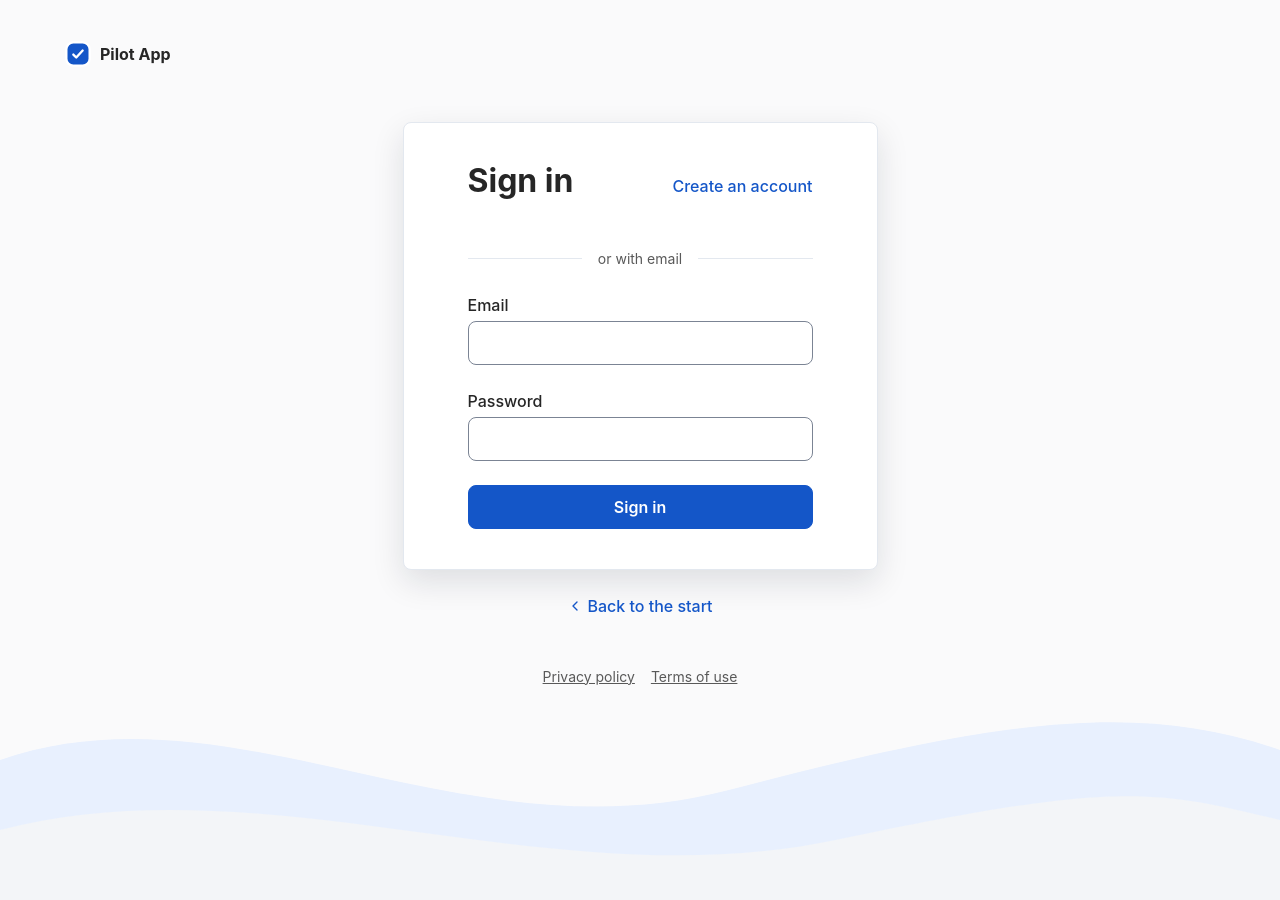
App › leaving the sign-in screen removes Google's script
Click the link "Back to the start" at (640, 606), box [567,594,712,618]
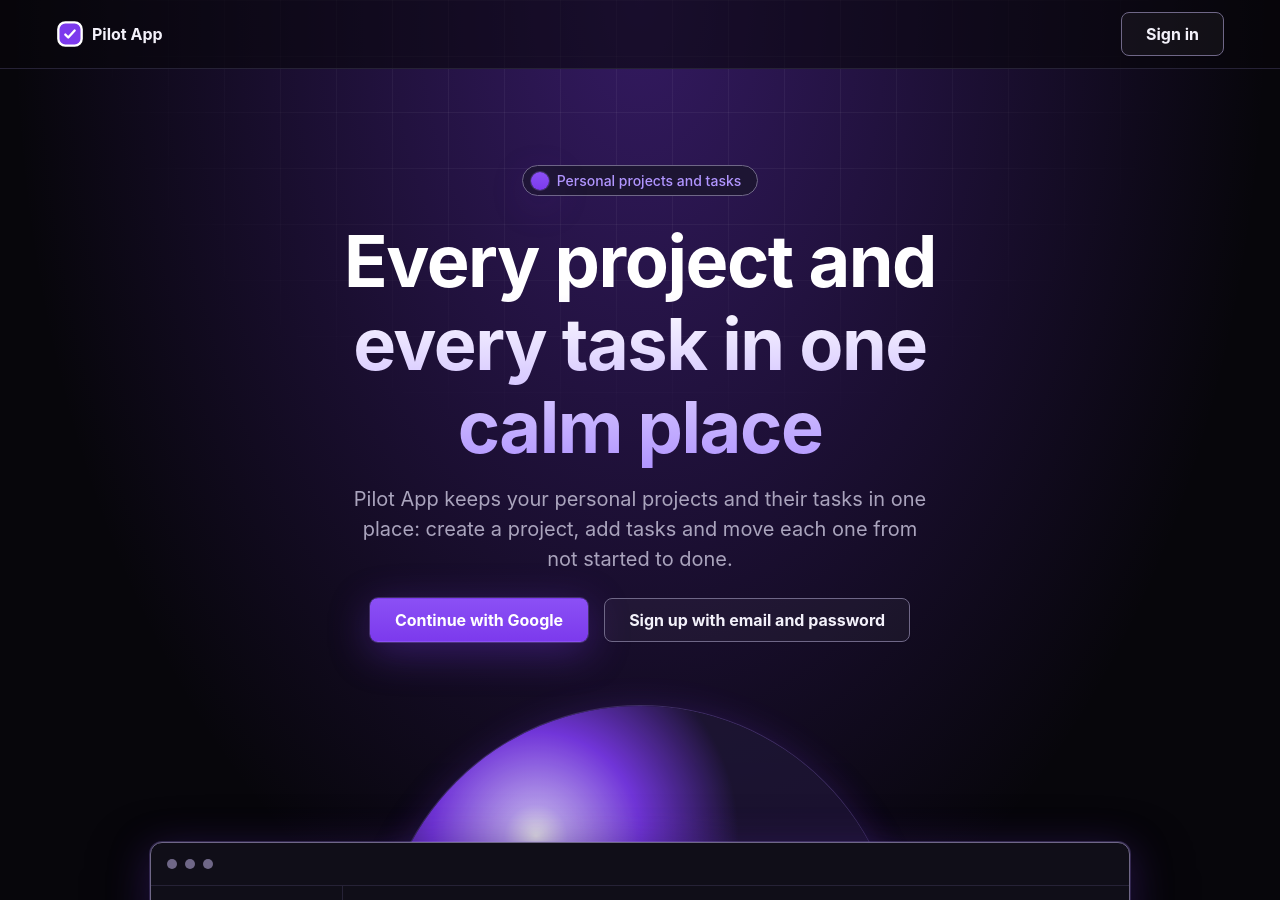
Check: the link "Continue with Google" is shown, box [370,598,588,642]
